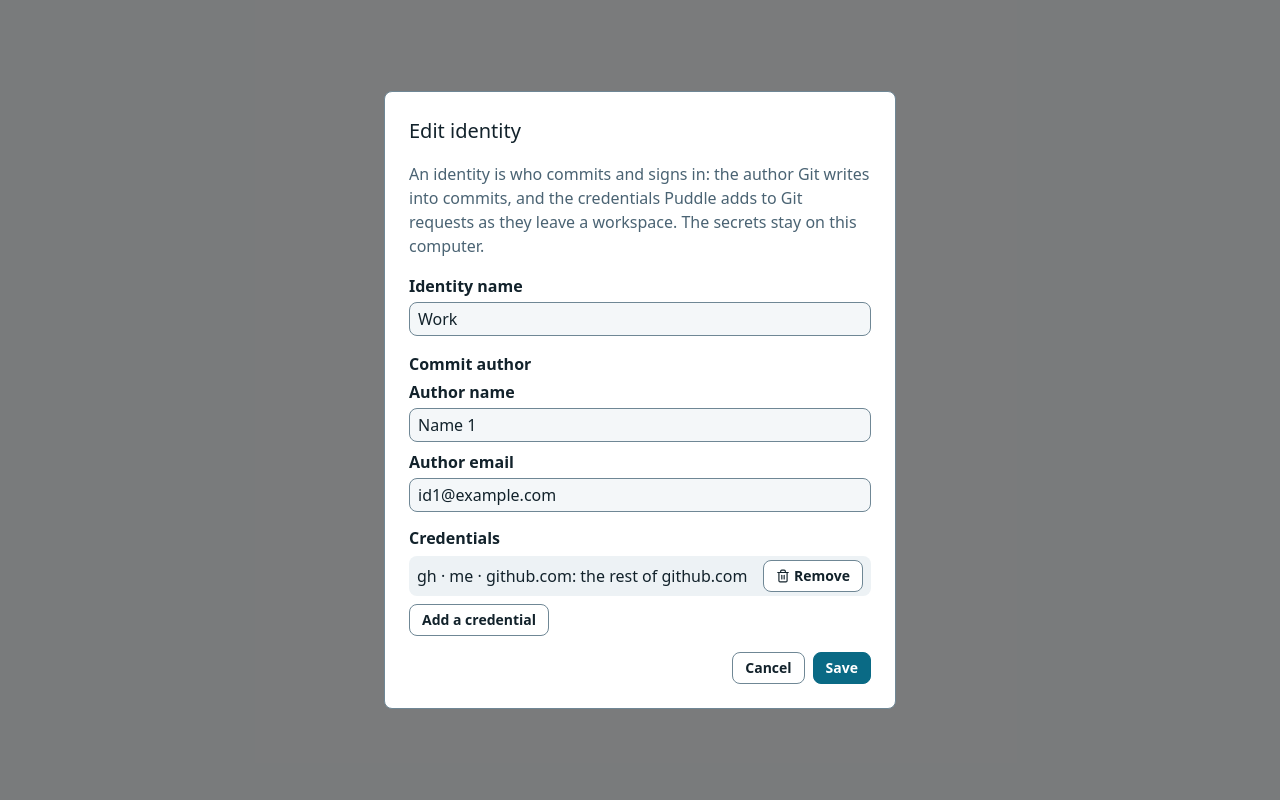
Scenario: the author from the account › offers an account's name to an identity that already has an author, and forgets it on reopening
The width and height of the screenshot is (1280, 800).
Click the button "Add a credential".
click(479, 620)  # box [409, 604, 549, 636]
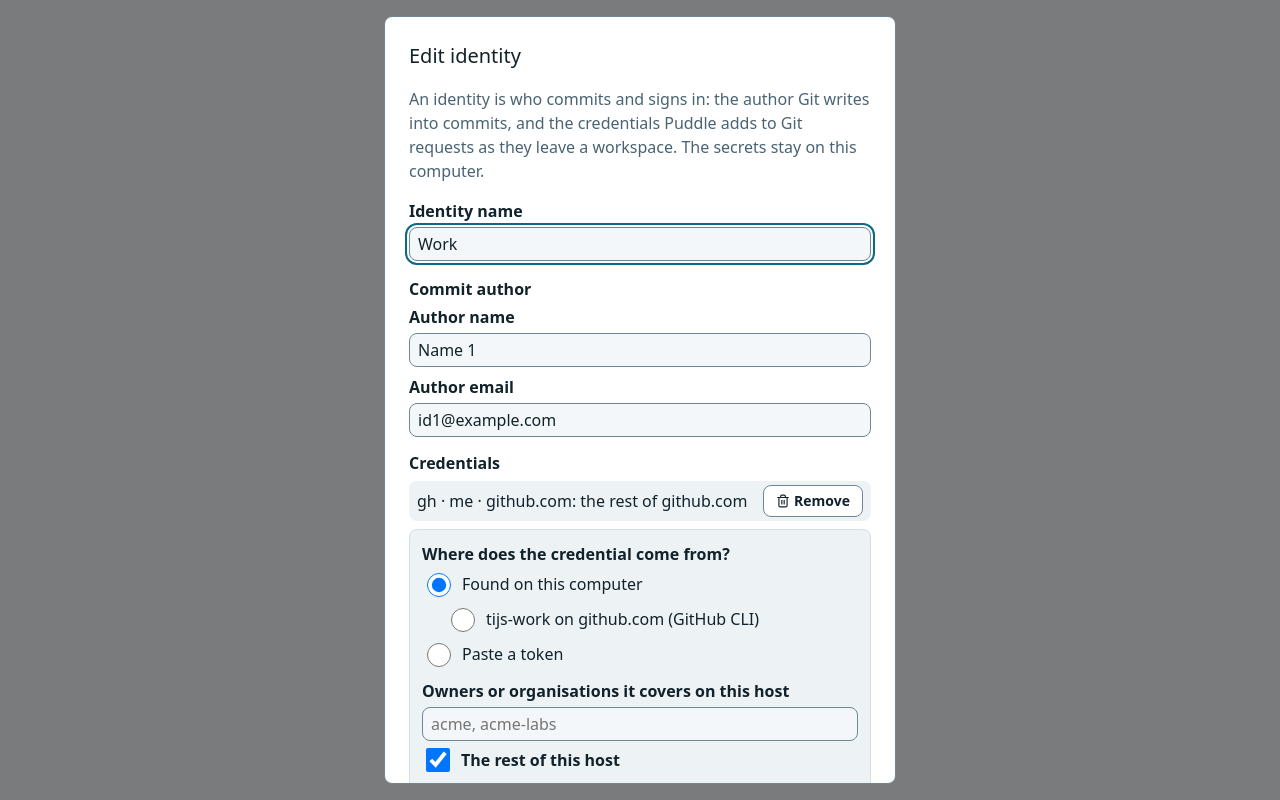
Click the radio button labelled "tijs-work on github.com (GitHub CLI)".
click(463, 620)  # box [451, 608, 475, 632]
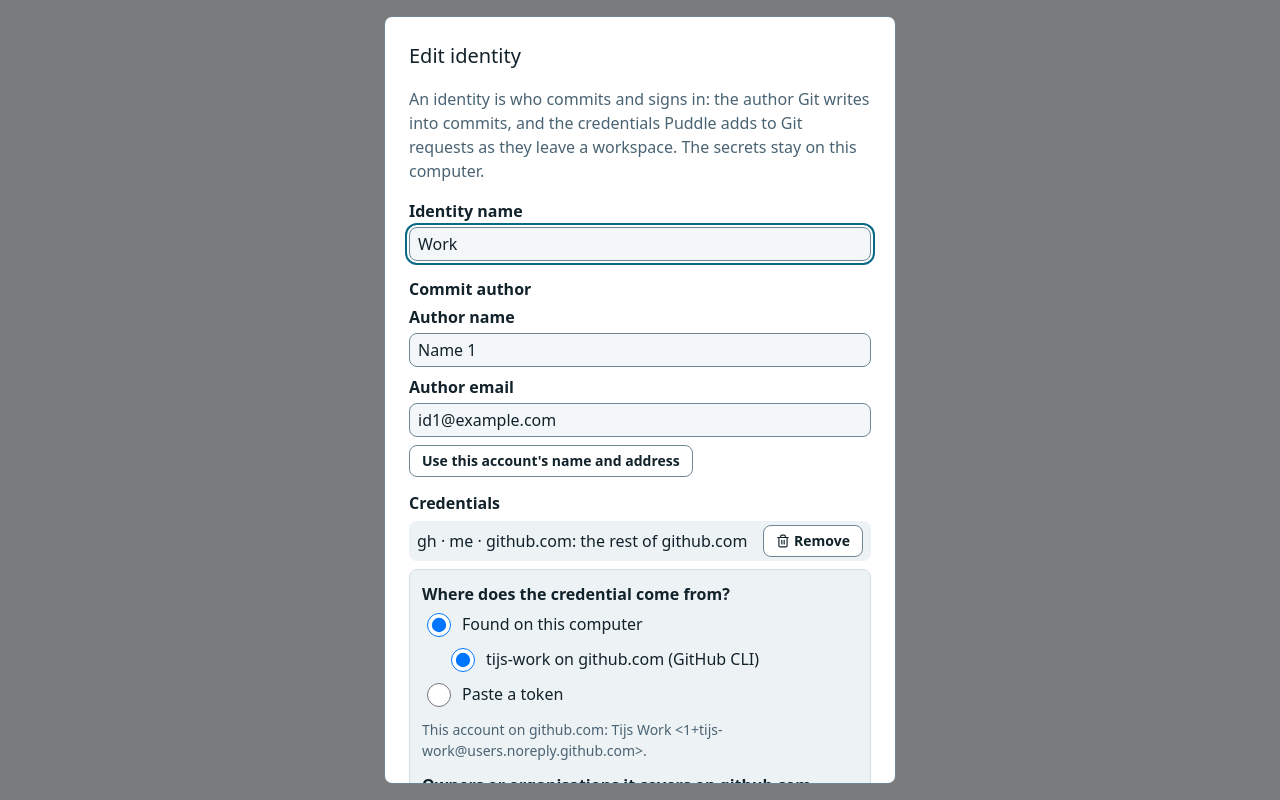
expect the field labelled "Author name" holds "Name 1": met, box [409, 333, 871, 367]
expect the button "Use this account's name and address" is shown: met, box [409, 445, 693, 477]
